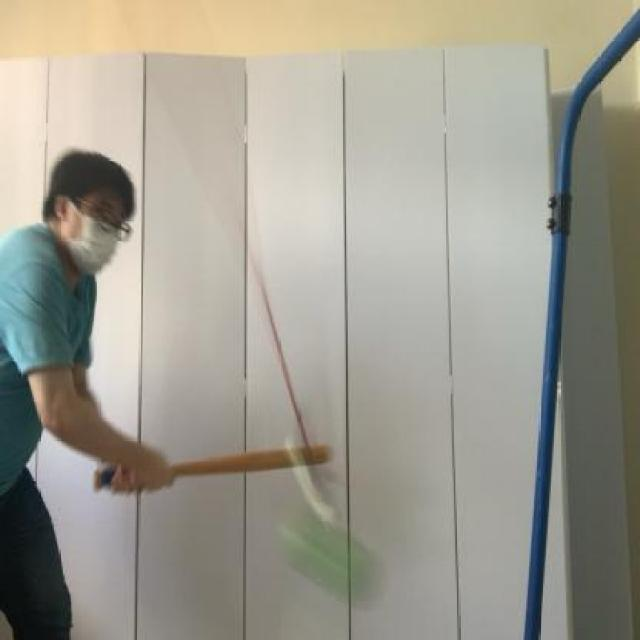baseball: (276, 505, 384, 610)
